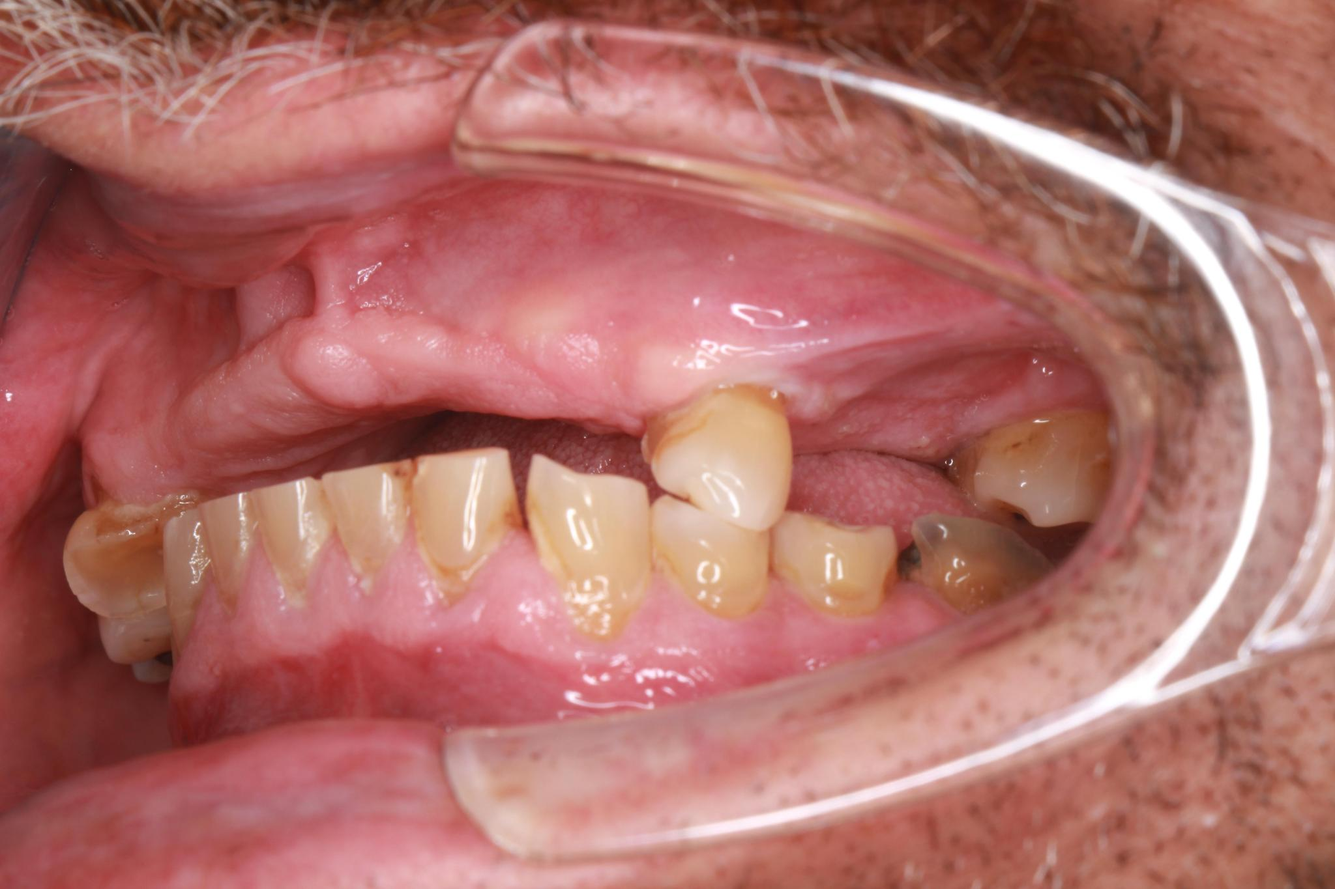Fractured Teeth: (522, 441, 657, 631), (761, 490, 913, 623), (63, 493, 224, 618)
